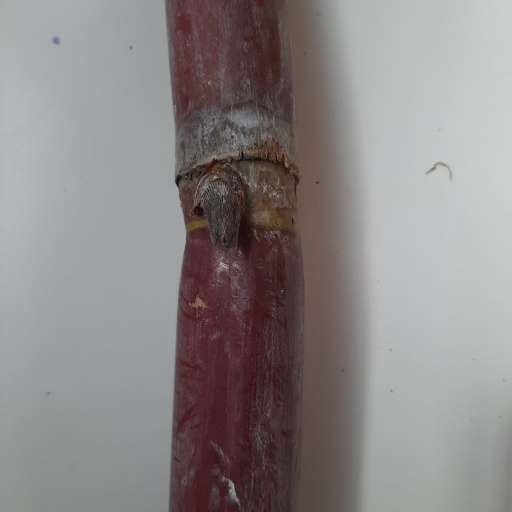Bud: (198, 165, 242, 247)
